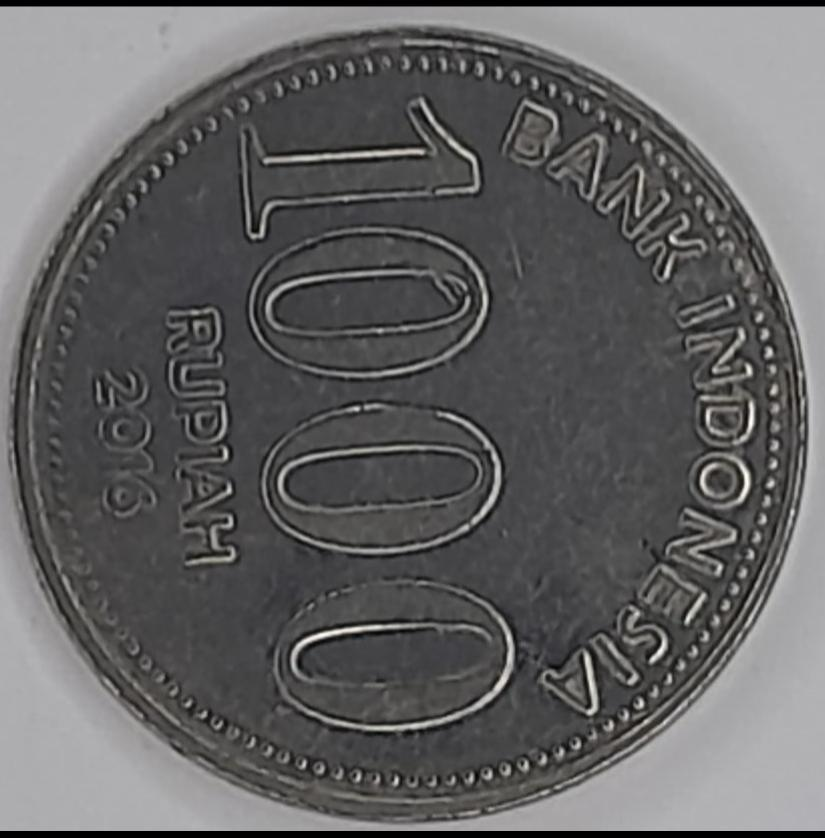coin_1000_e2016: (14, 17, 814, 838)
